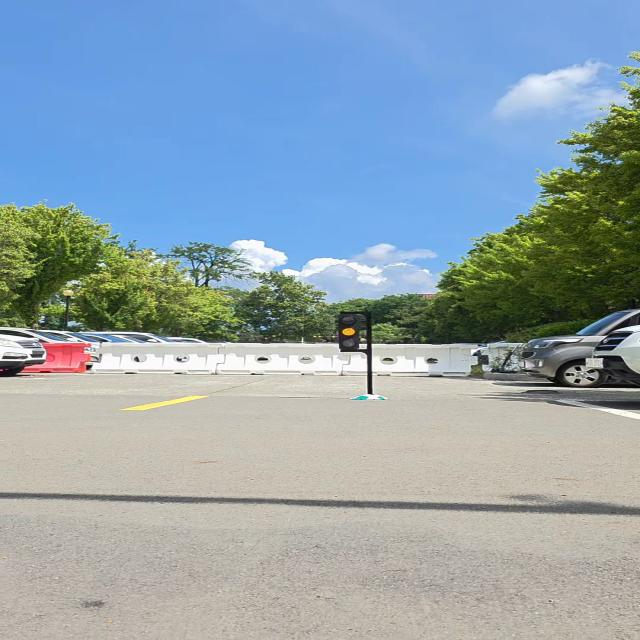yellow: (336, 314, 362, 351)
